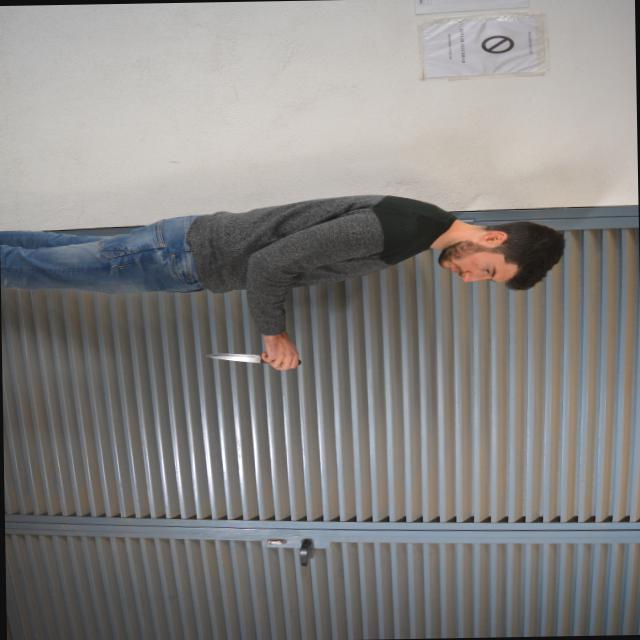knife: (202, 347, 306, 372)
